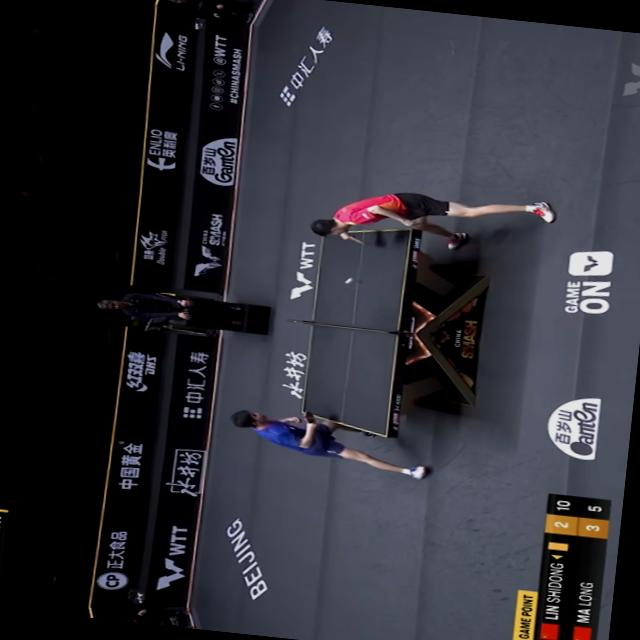TT Net: (281, 314, 401, 335)
TT Racket: (296, 402, 322, 428), (345, 232, 368, 246)
TT Table: (301, 218, 412, 435)
